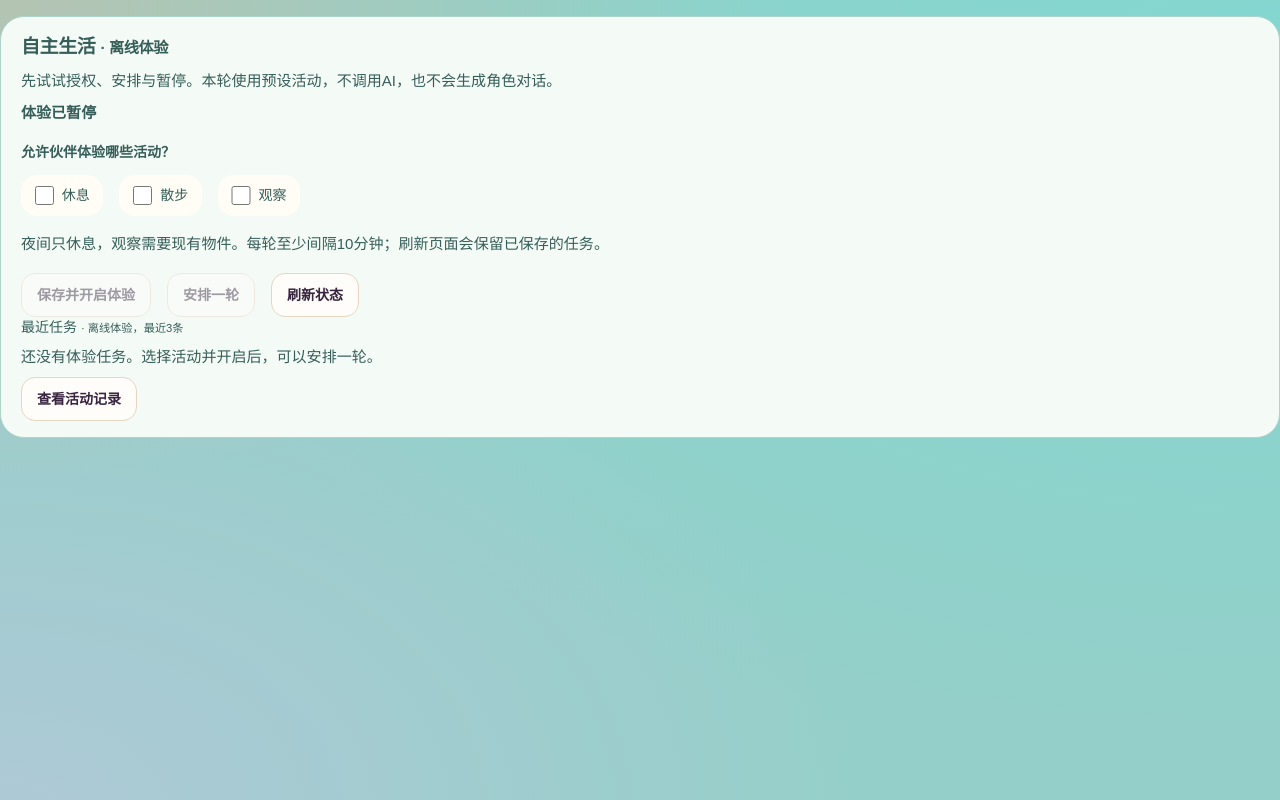
Test: saves scope, queues, restores queued state, executes and pauses with stored results
Expected: the text "体验已暂停" is shown, [21,104,96,121]
Click the checkbox labelled "休息" at (44,195), box [35,186,54,205]
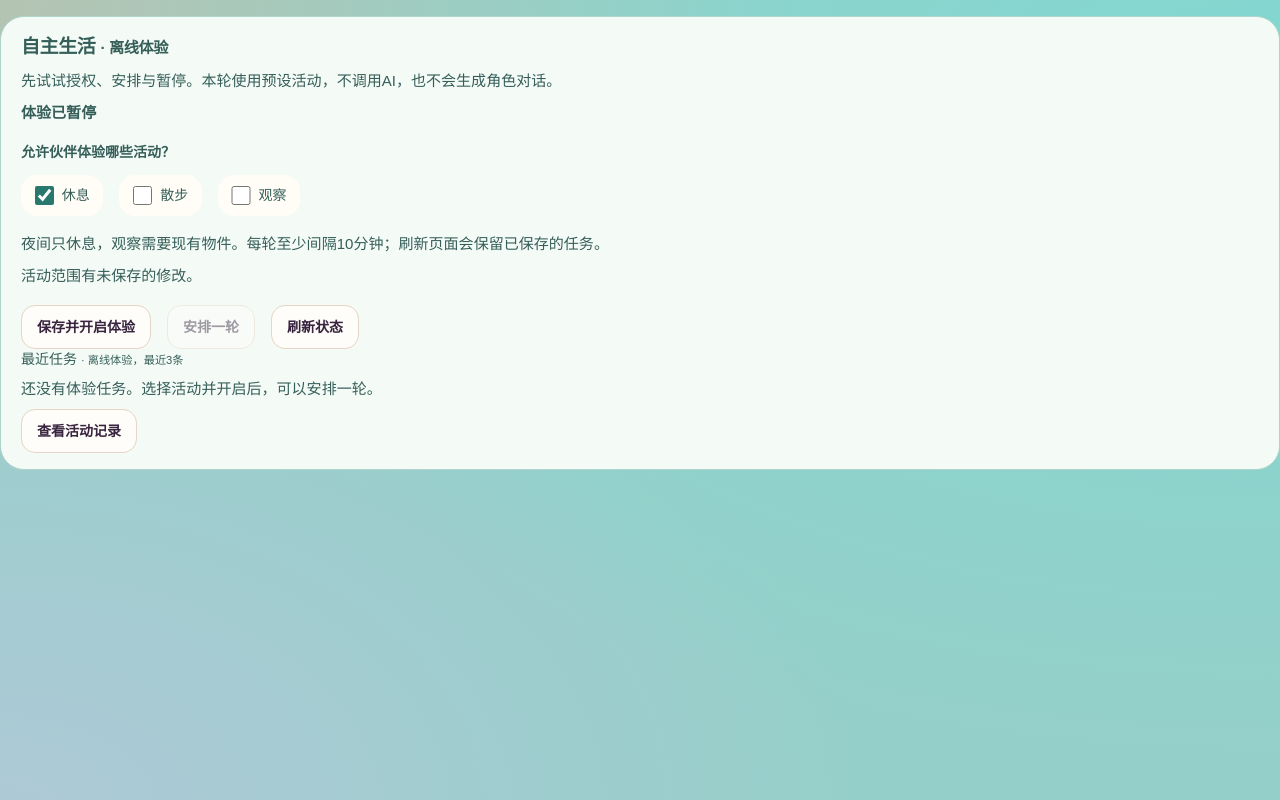
Click the button "保存并开启体验" at (86,327), box [21,305,151,349]
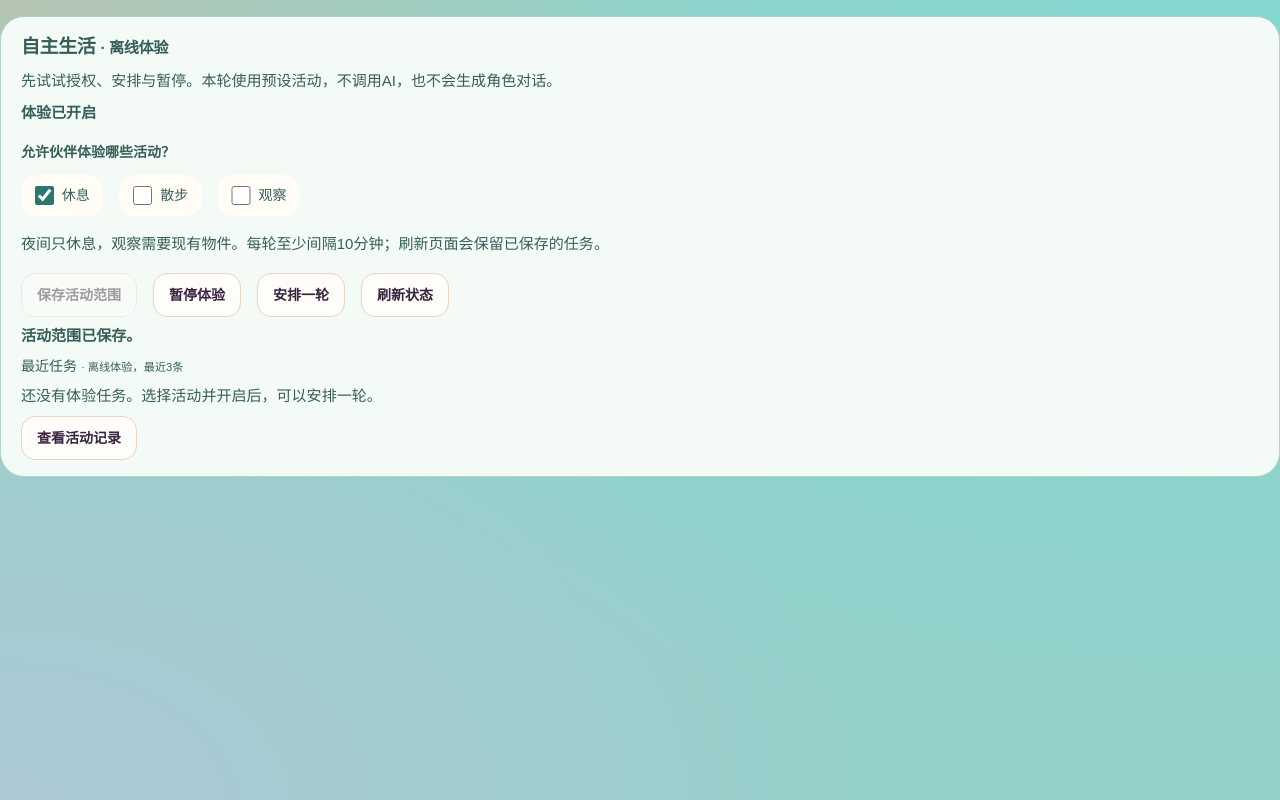
Expected: the text "体验已开启" is shown, [21,104,96,121]
Click the button "安排一轮" at (301,295), box [257,273,345,317]
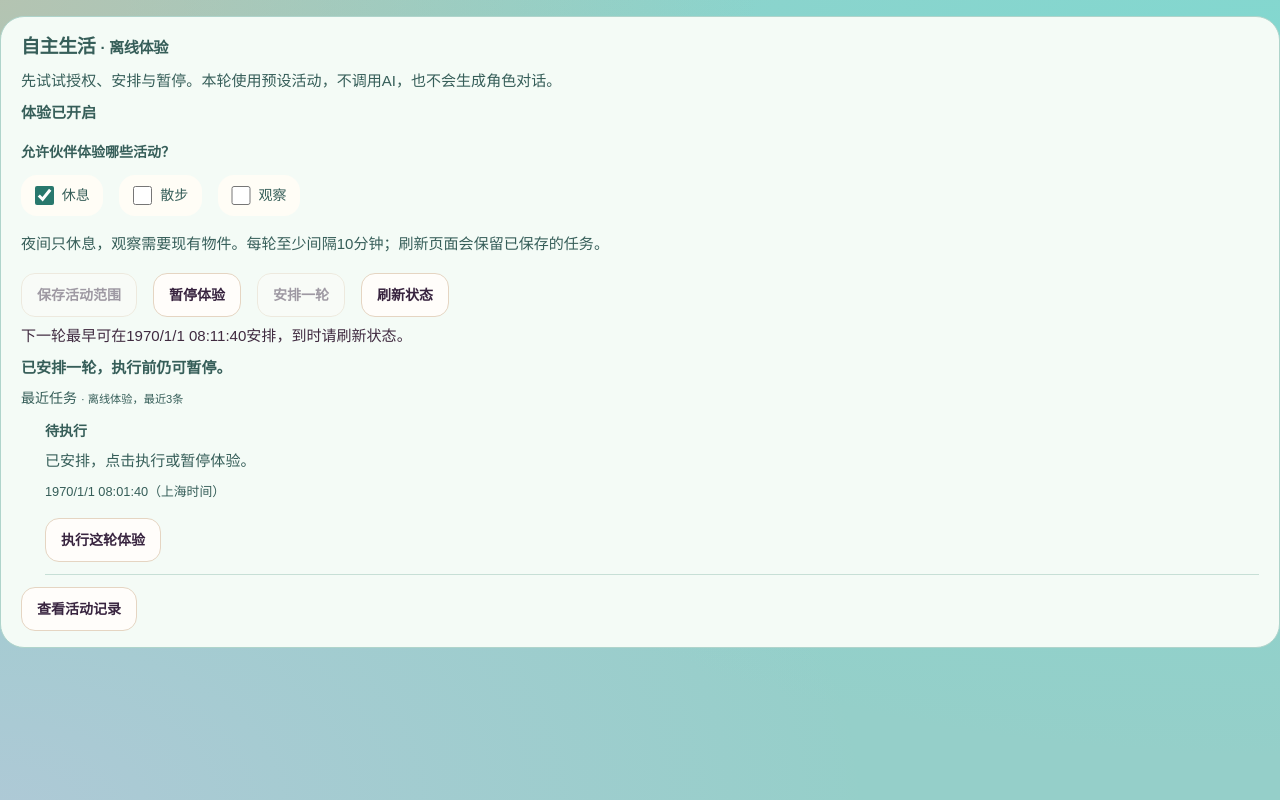
Expected: the text "待执行" is shown, [45,423,87,439]
Click the button "刷新状态" at (405,295), box [361,273,449,317]
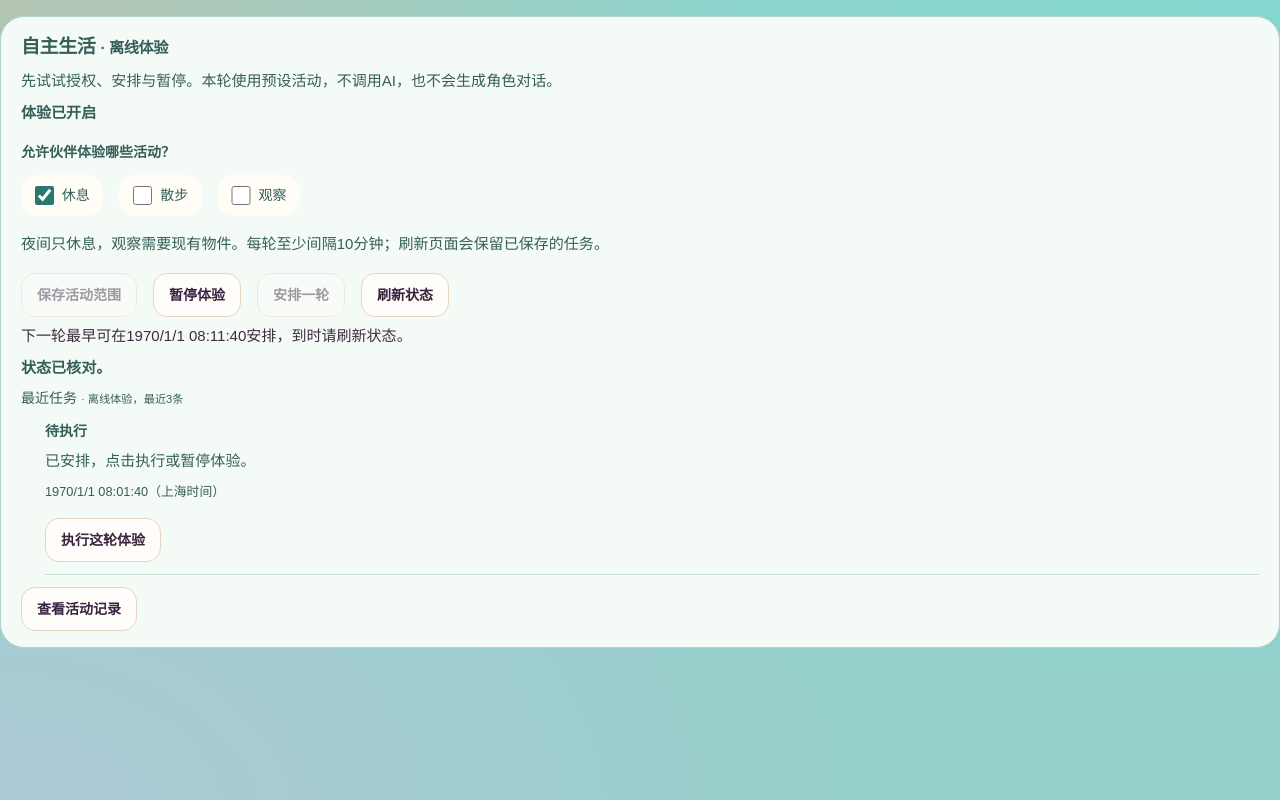
Expected: the text "状态已核对。" is shown, [21,359,111,376]
Click the button "执行这轮体验" at (103,540), box [45,518,161,562]
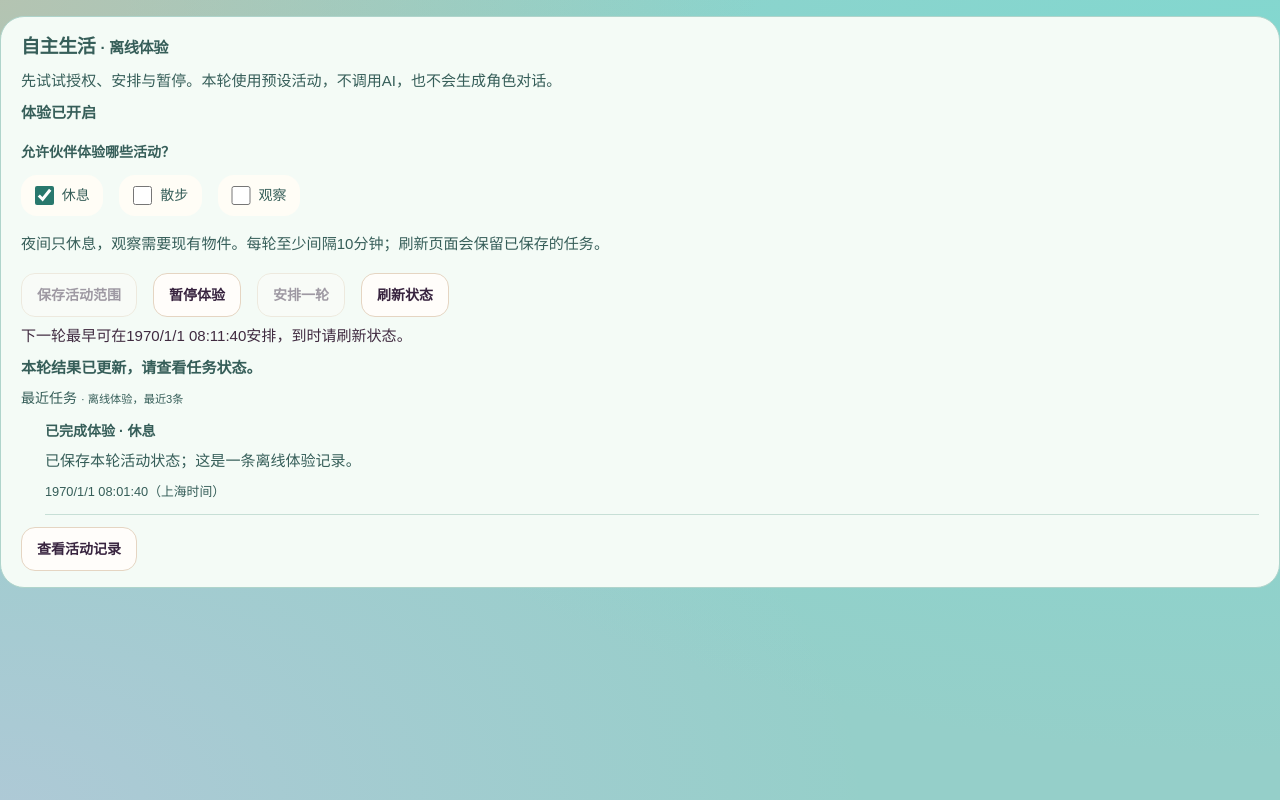
Expected: the text "已完成体验 · 休息" is shown, [45,423,156,439]
Click the button "暂停体验" at (197,295), box [153,273,241,317]
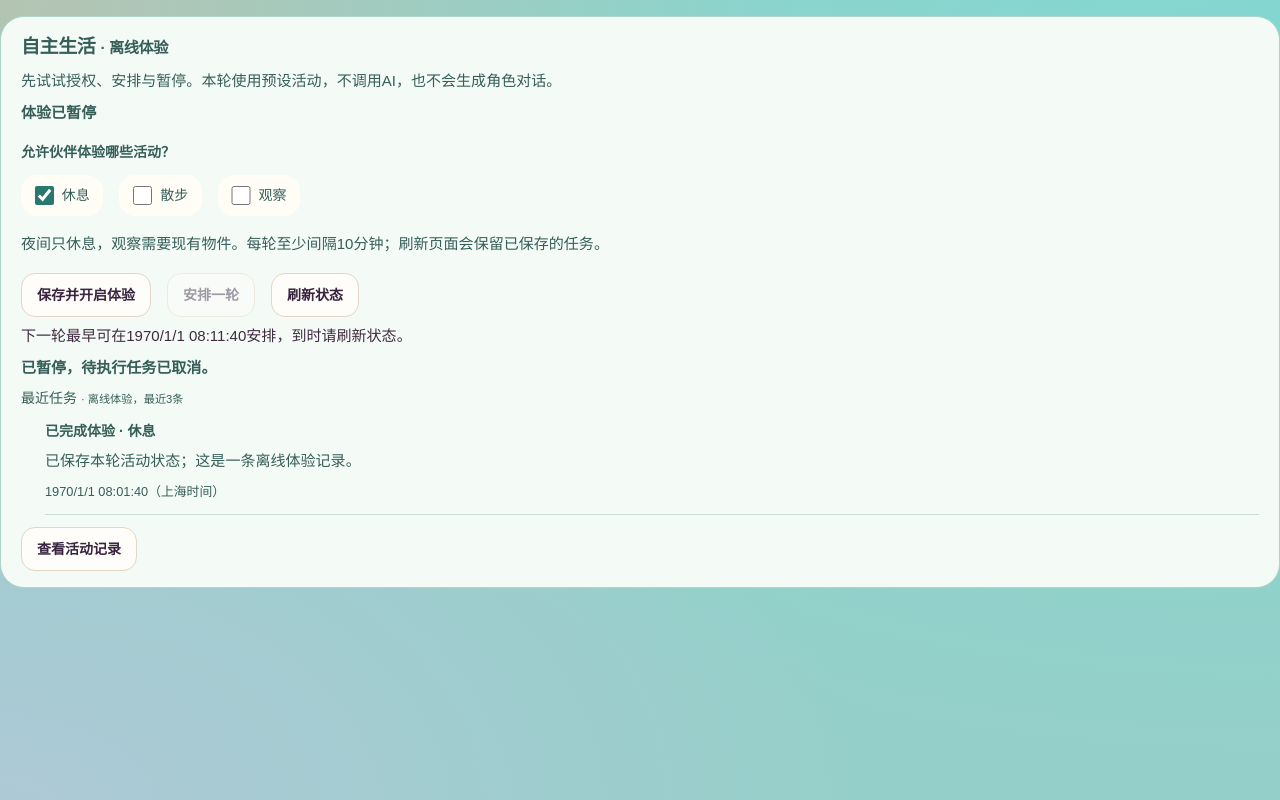
Expected: the text "已完成体验 · 休息" is shown, [45,423,156,439]
Expected: the text "体验已暂停" is shown, [21,104,96,121]
